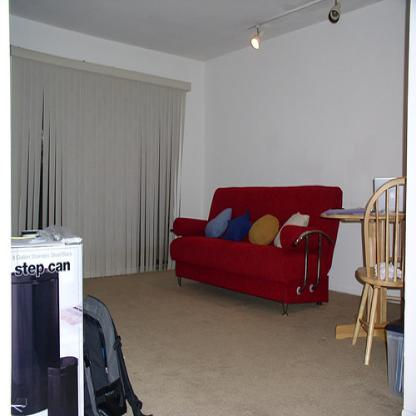chair: (350, 176, 405, 364)
sofa: (170, 183, 343, 315)
